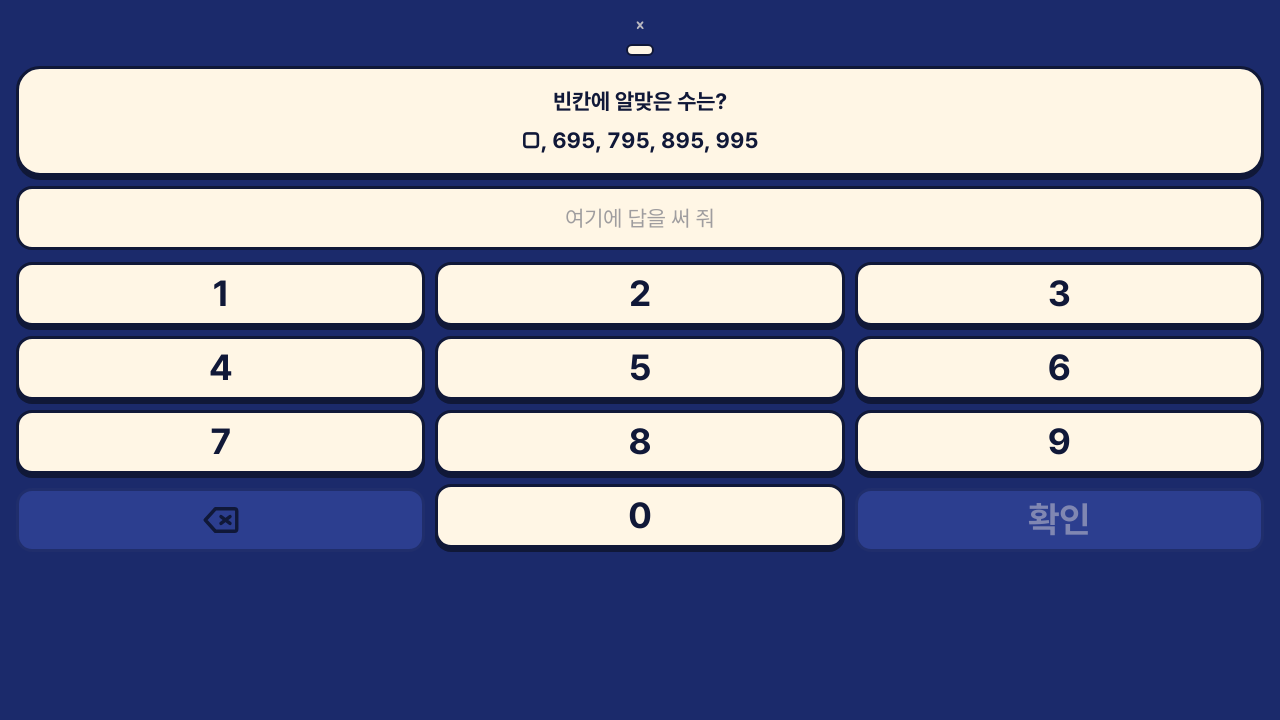
Test: StageScreen — 입력 방식 › 숫자 입력 문제는 숫자패드로 푼다
Click the button "5".
click(640, 368)  # box [435,336,845,400]
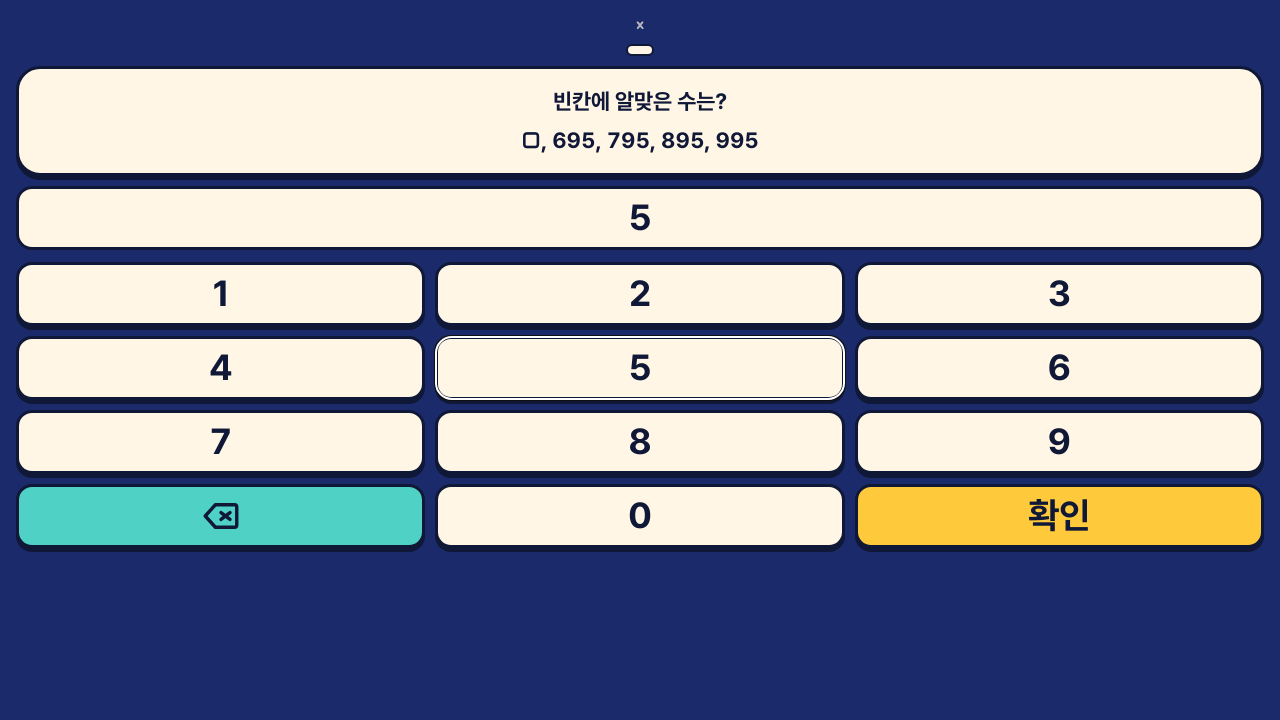
Click the button "9".
click(1059, 442)  # box [855,410,1264,474]
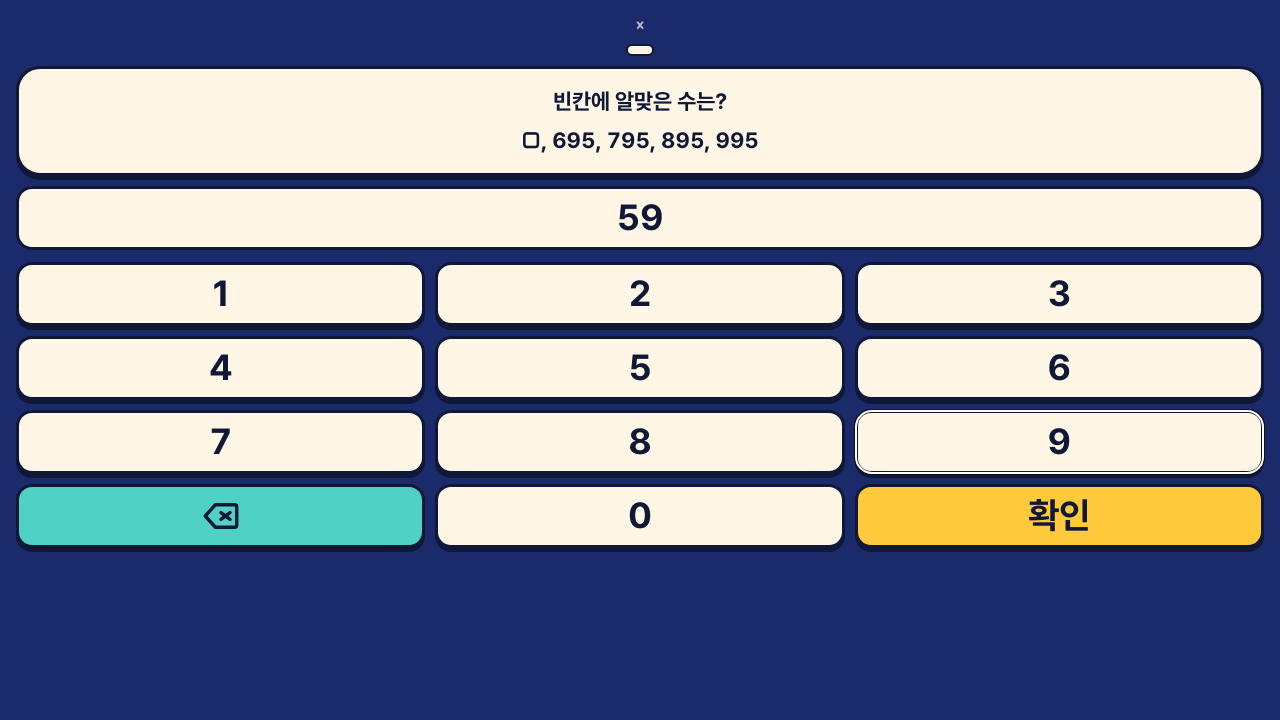
Click the button "5".
click(640, 368)  # box [435,336,845,400]
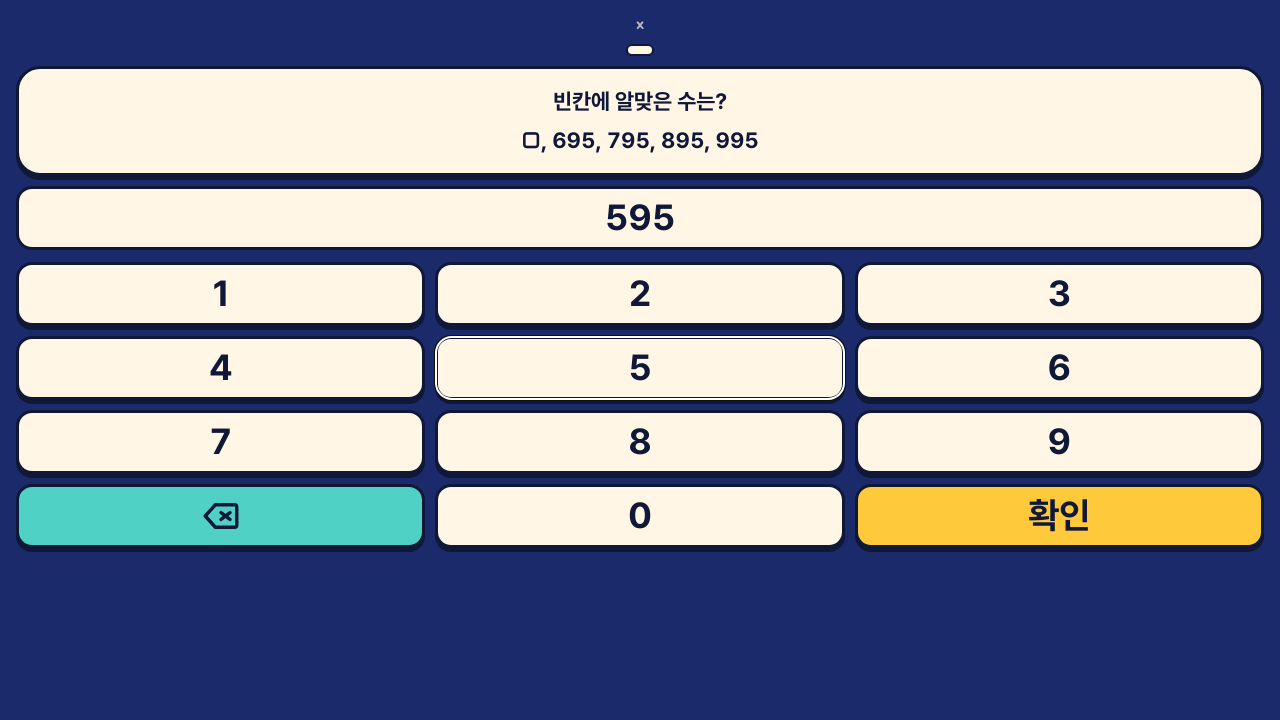
Click the button "확인".
click(1059, 516)  # box [855,484,1264,548]
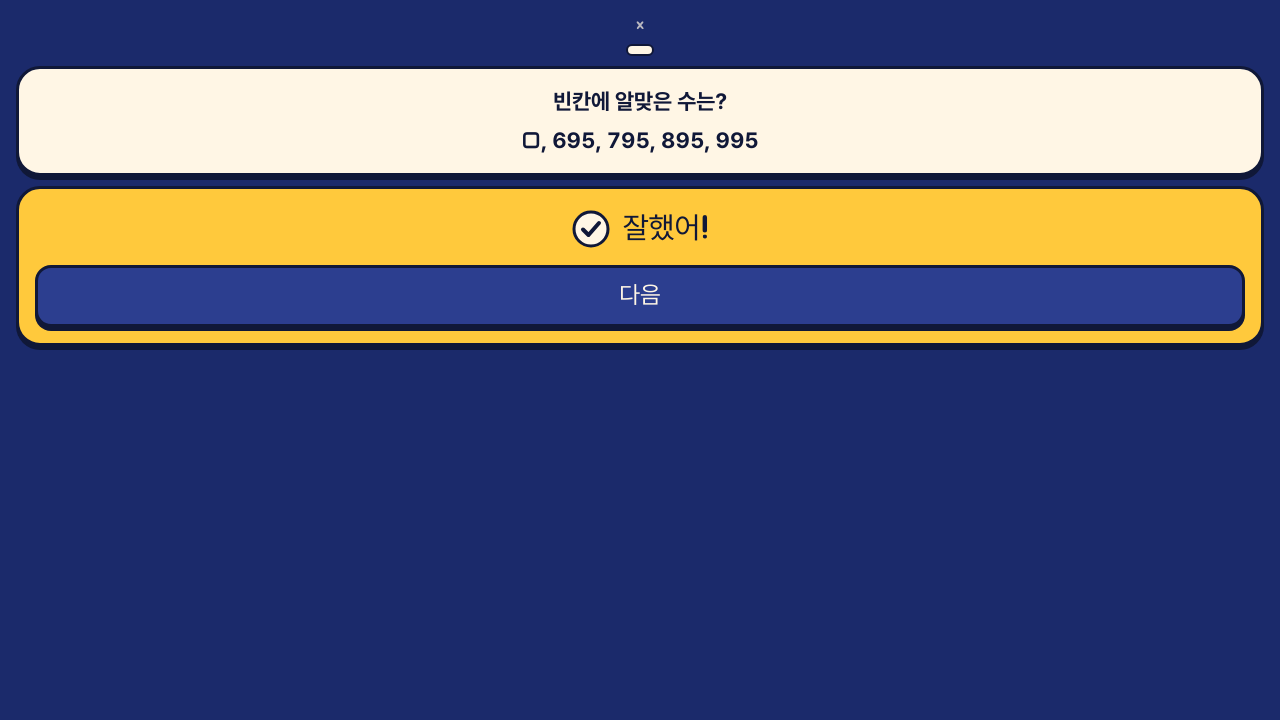
Check: the text "잘했어!" is shown, box [623,211,709,247]
